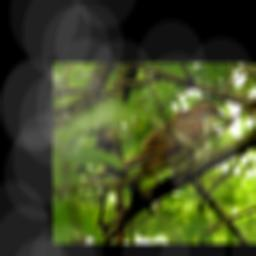Cuckoo: (83, 99, 228, 185)
